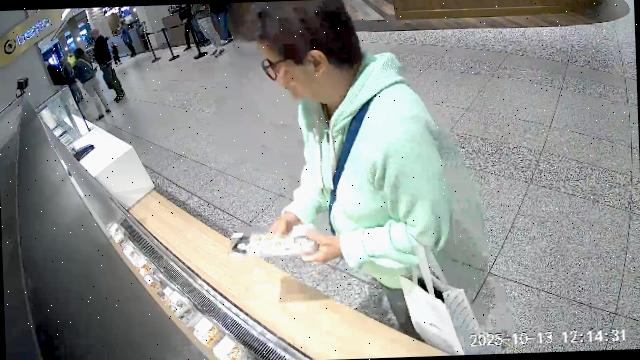sushi-box: (228, 224, 324, 259)
